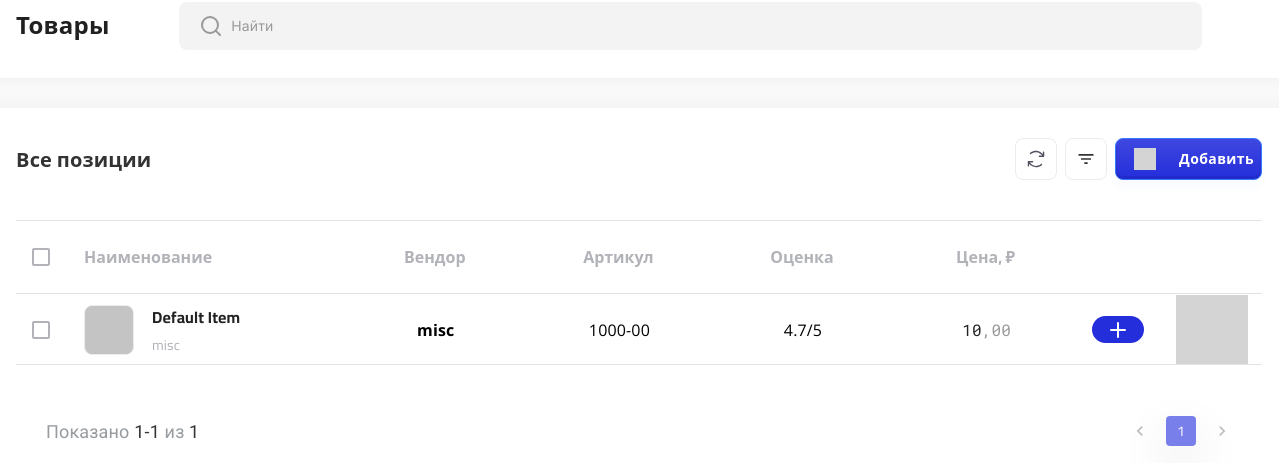
Scenario: ProductsPage › sends server-side sort params and updates rows
The width and height of the screenshot is (1279, 463).
Expected: the text "Default Item" is shown, [152, 302, 240, 332]
Step 1. Click the column heading "Цена, ₽" → (987, 258), box [895, 221, 1078, 294]
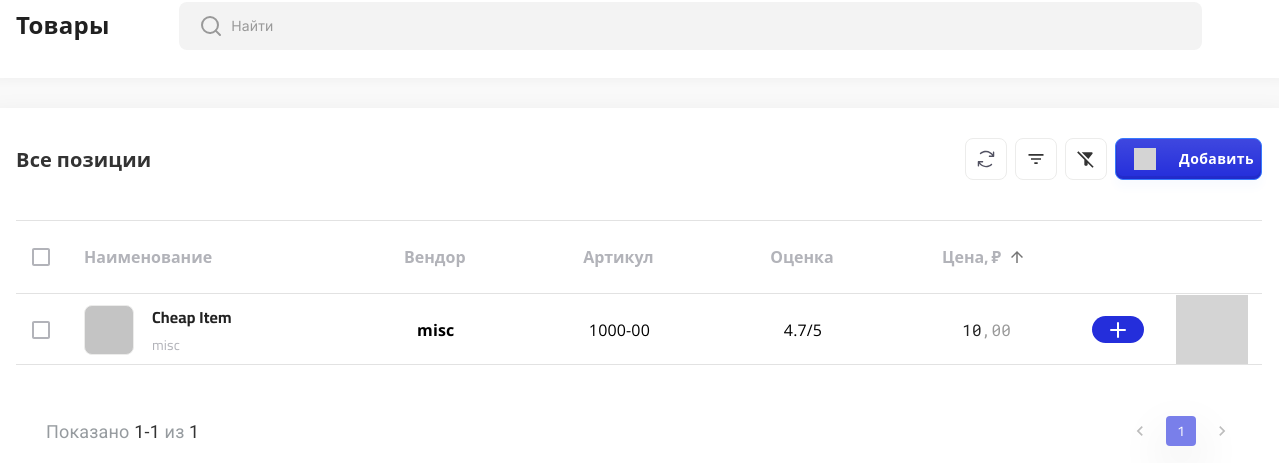
Expected: the text "Cheap Item" is shown, [152, 302, 232, 332]
